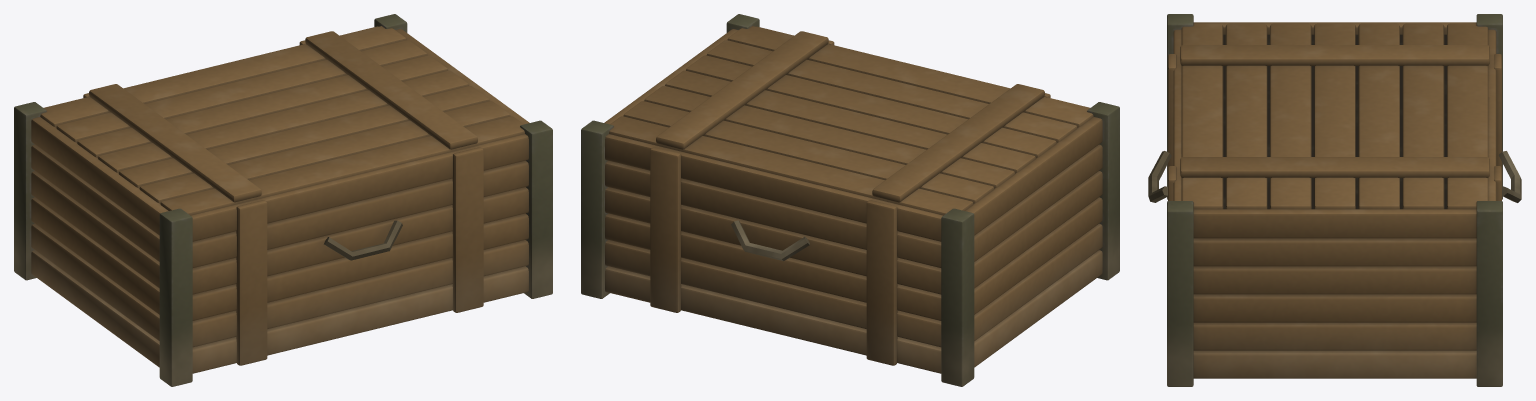
File: fh_battle_e_convoy_crate.glb
The picture shows the model from 3 angles, left to right: view 1: azimuth 30°, elevation 25°; view 2: azimuth 150°, elevation 25°; view 3: azimuth 270°, elevation 25°; orthographic projection. The views are drawn at different scales.
Visible parts, largest first — view 1: convoy_crate; view 2: convoy_crate; view 3: convoy_crate.
Part boxes in pixels (bbox=[...]): convoy_crate: bbox=[14, 14, 552, 386]; convoy_crate: bbox=[581, 14, 1119, 386]; convoy_crate: bbox=[1148, 14, 1521, 386].
Size of the model in its own units: 1.06 by 0.452 by 0.8442.
Materials: 1 (1 with a texture image).
